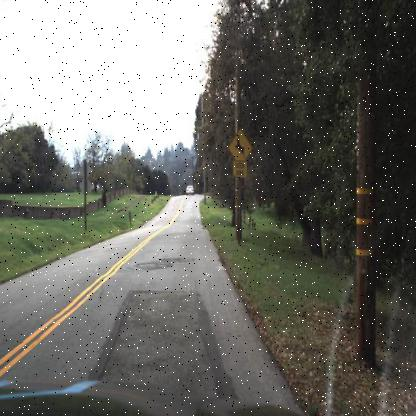car: (179, 184, 193, 202)
